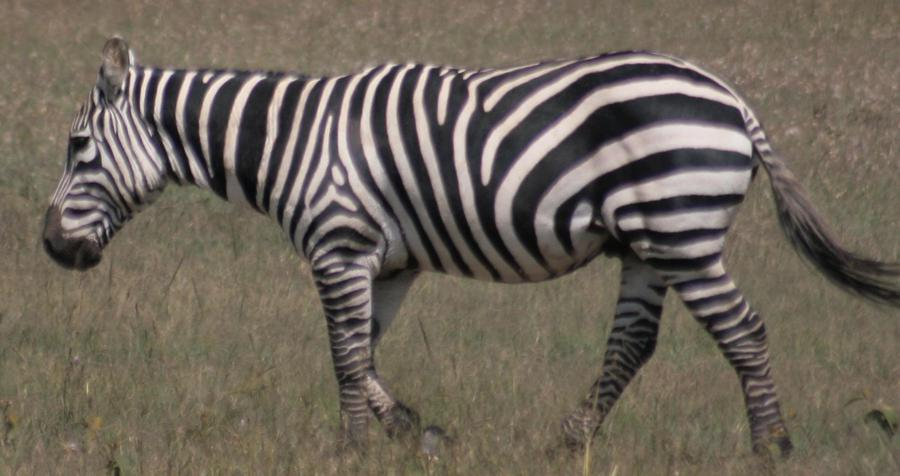zebra_plains: (246, 34, 772, 304)
